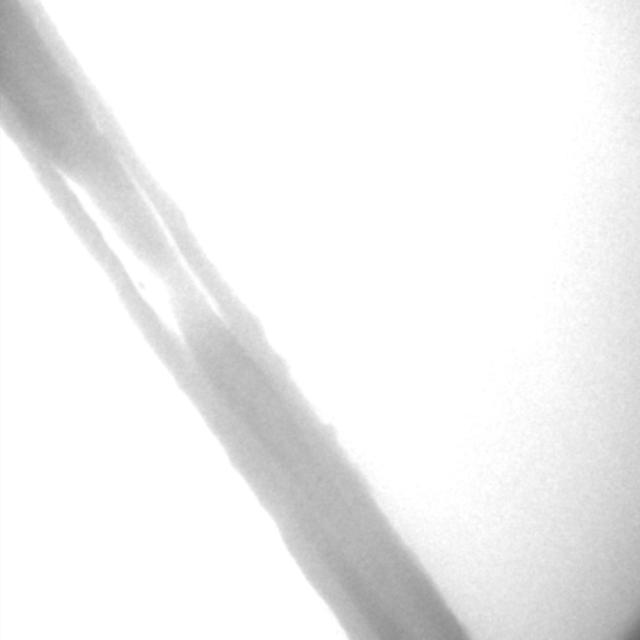unfused: (55, 156, 227, 380)
